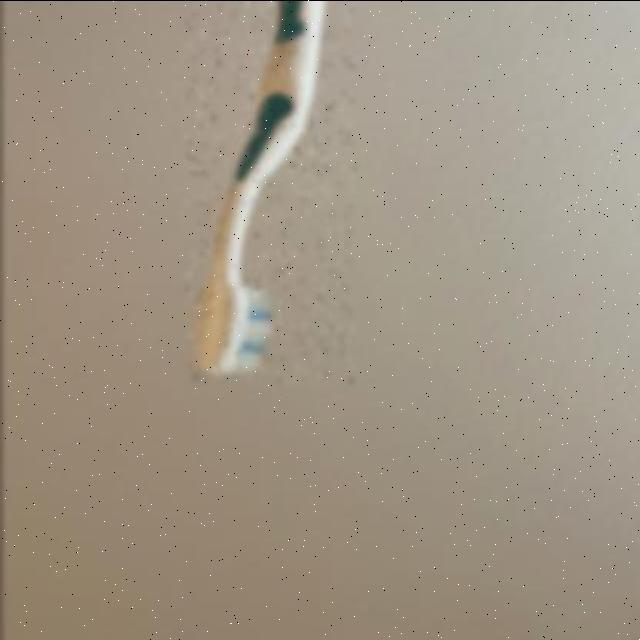toothbrush: (184, 1, 353, 383)
